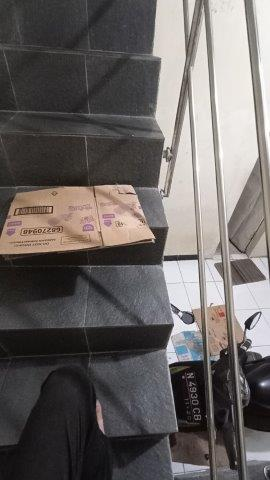kardus: (2, 186, 154, 255), (173, 304, 250, 359)
